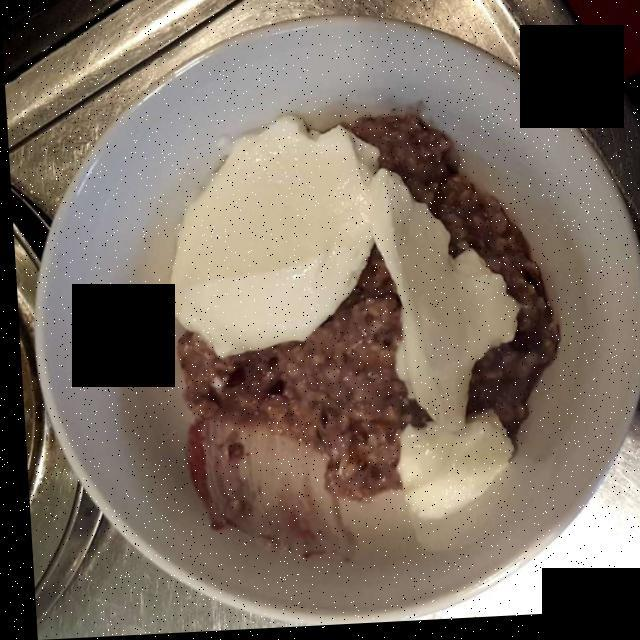oats: (165, 110, 570, 513)
